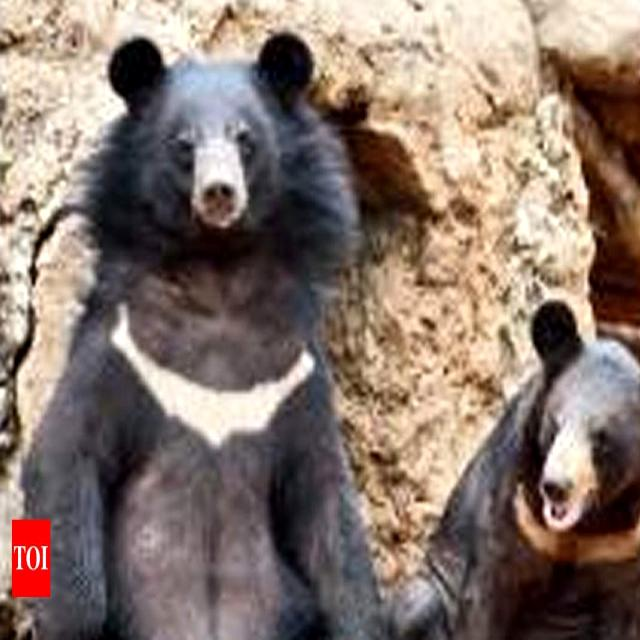bear: (112, 37, 336, 336), (526, 326, 638, 547)
